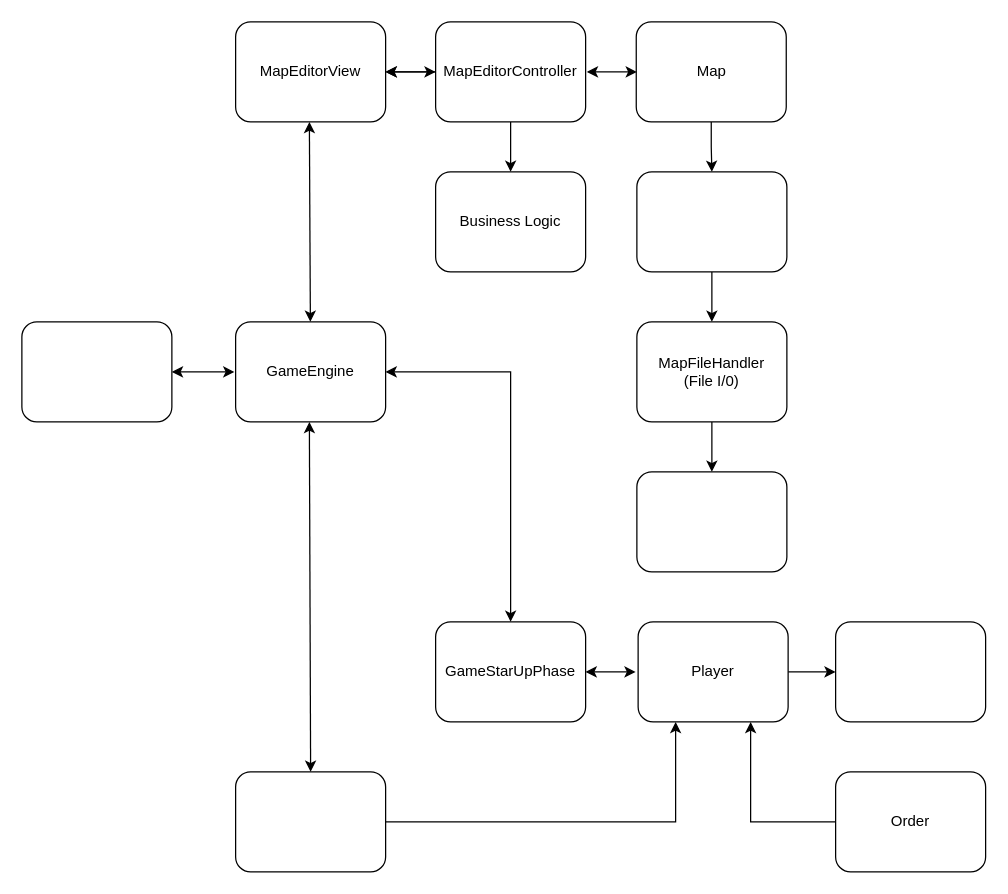
Image size: 1008x894. Some labels were removed from this diagram. Here are the shapes that lost their labels. From the top down, the centre of each, then its label:
point 711,221: Data Model (Continent, Country)
point 96,371: User Interface (Console)
point 711,521: Text File (Map data)
point 910,671: Country (Player)
point 310,821: MainGameLoop
